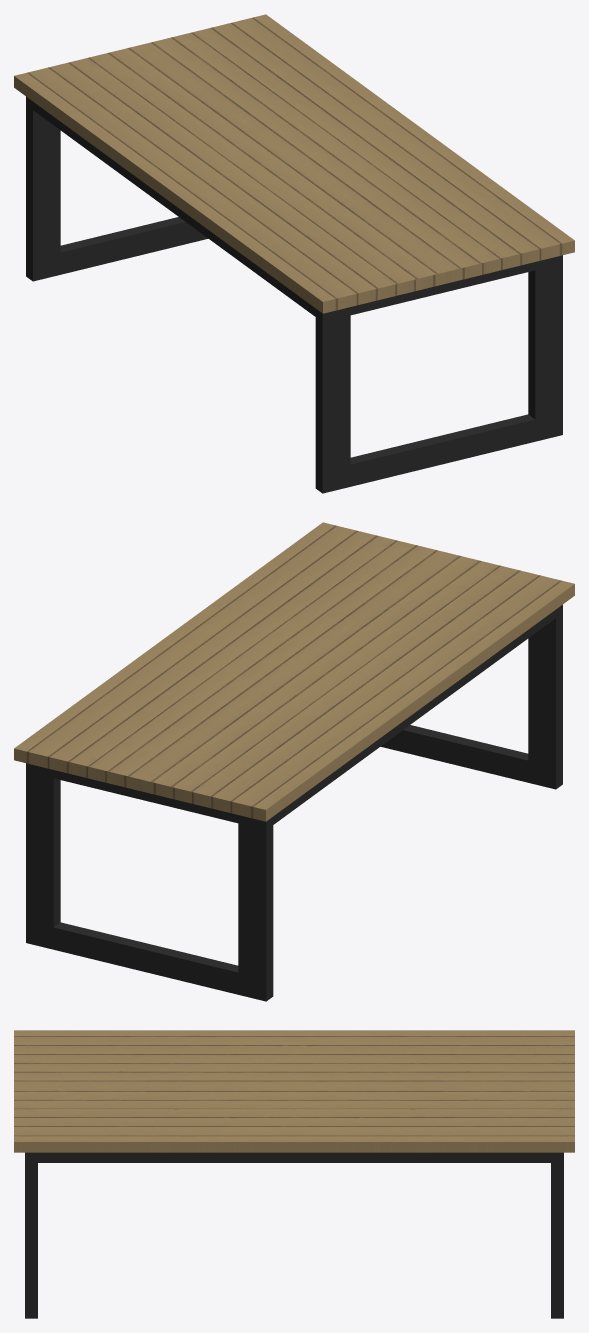
File: modern table.fbx
3 views of the same model, one above another, from view 1: azimuth 30°, elevation 25°; view 2: azimuth 150°, elevation 25°; view 3: azimuth 270°, elevation 25° (orthographic). The views are drawn at different scales.
Visible parts, largest first — view 1: modern table; view 2: modern table; view 3: modern table.
Boxes of the visible parts, left/top/right/bottom form: modern table: left=14, top=14, right=574, bottom=493; modern table: left=14, top=522, right=574, bottom=1001; modern table: left=14, top=1030, right=574, bottom=1318.
Bounding box in the file's own units: 72.92 × 54.61 × 155.
Materials: 2 (2 with a texture image).
